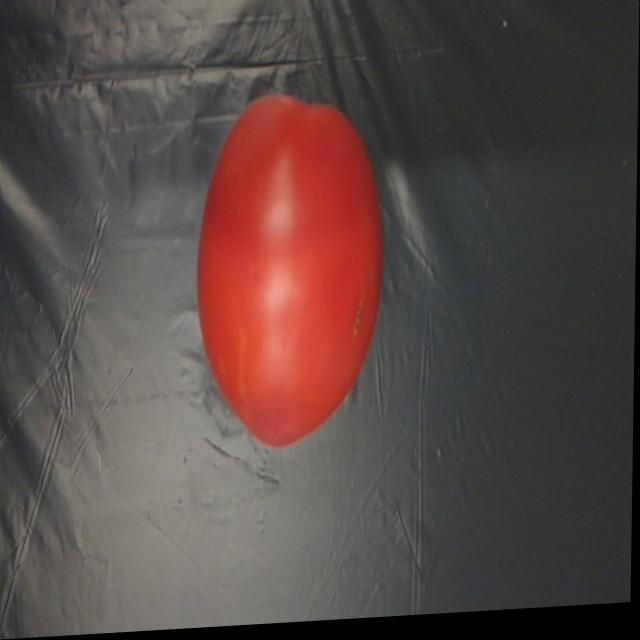kirmizi: (193, 86, 396, 456)
